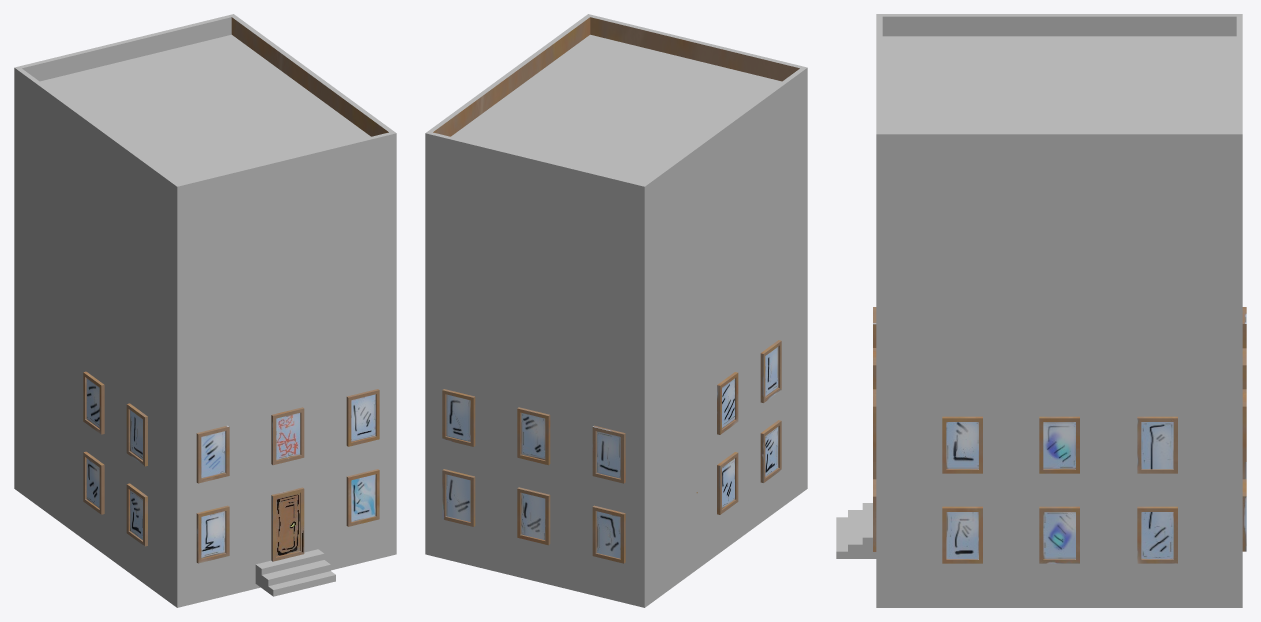
File: type3building_2.fbx
The picture shows the model from 3 angles, left to right: view 1: azimuth 30°, elevation 25°; view 2: azimuth 150°, elevation 25°; view 3: azimuth 270°, elevation 25°; orthographic projection. The views are drawn at different scales.
Parts seen in each view (by area): view 1: Cube.065; view 2: Cube.065; view 3: Cube.065.
Part boxes in pixels (x1=…): Cube.065: x1=14, y1=14, x2=396, y2=607; Cube.065: x1=425, y1=14, x2=807, y2=607; Cube.065: x1=836, y1=14, x2=1246, y2=607.
Size of the model in its own units: 1452 by 2567 by 2016.
